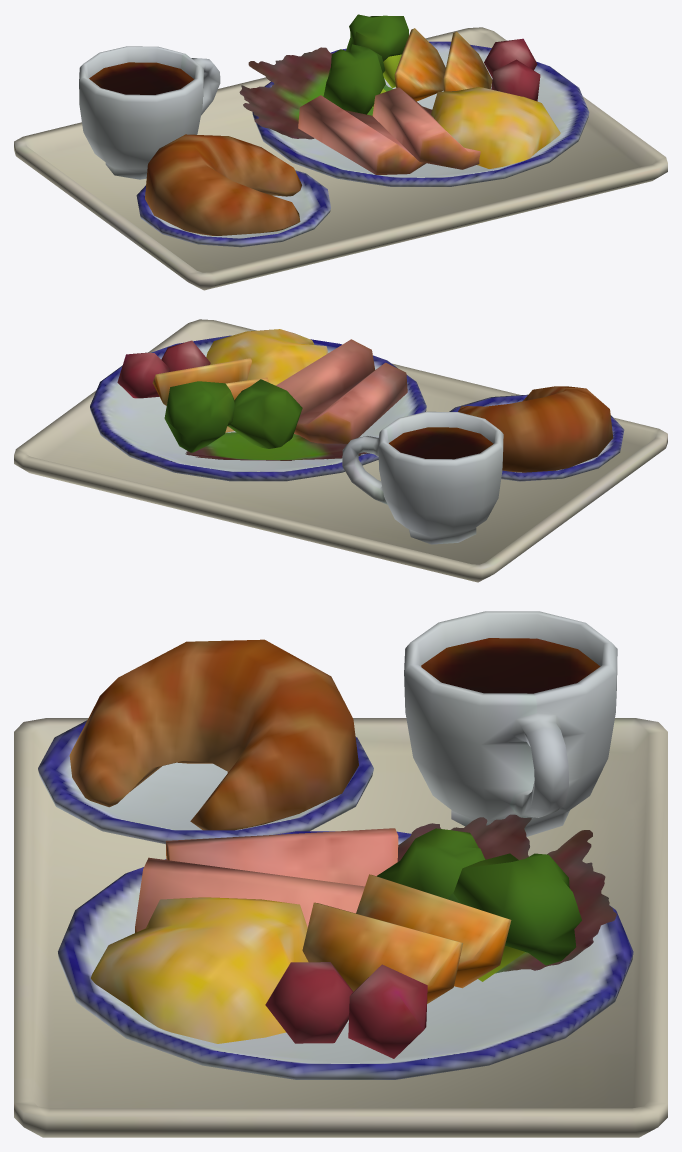
3 renders of one model, top to bottom at view 1: azimuth 30°, elevation 25°; view 2: azimuth 150°, elevation 25°; view 3: azimuth 270°, elevation 25°, orthographic. The views are drawn at different scales.
Size of the model in its own units: 8.93 by 1.8 by 6.19.
Materials: 1 (1 with a texture image).
